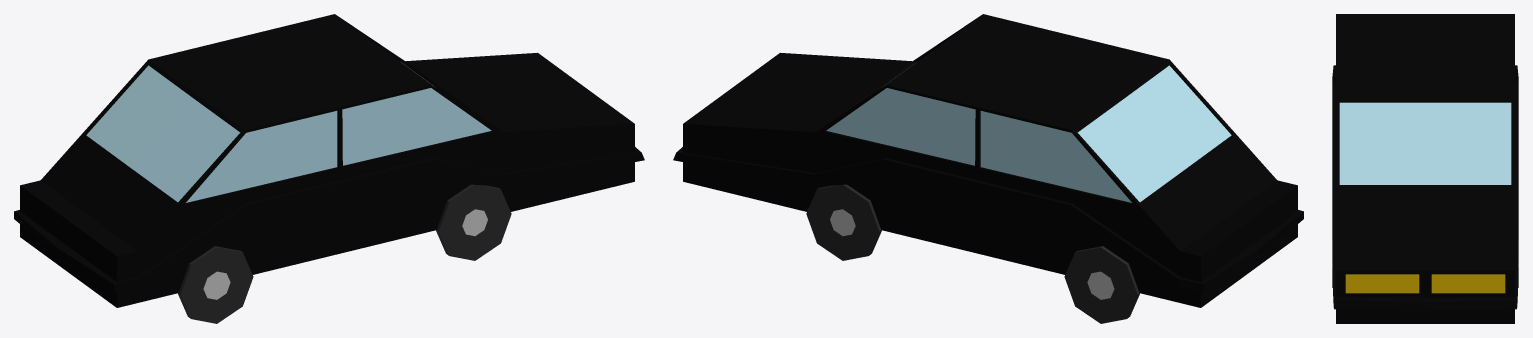
The model's file is Coche4.fbx.
The picture shows the model from 3 angles, left to right: view 1: azimuth 30°, elevation 25°; view 2: azimuth 150°, elevation 25°; view 3: azimuth 270°, elevation 25°; orthographic projection. The views are drawn at different scales.
Parts seen in each view (by area): view 1: Cube, Cylinder.001, Cylinder; view 2: Cube, Cylinder.001, Cylinder; view 3: Cube.
Boxes of the visible parts, x1,y1,x2,y2 form: Cube: [14, 14, 644, 307]; Cylinder.001: [178, 246, 253, 323]; Cylinder: [436, 184, 511, 260]; Cube: [673, 14, 1303, 307]; Cylinder.001: [1064, 246, 1139, 323]; Cylinder: [806, 184, 881, 260]; Cube: [1332, 14, 1518, 323].
Bounding box in the file's own units: 872 × 285 × 282.
